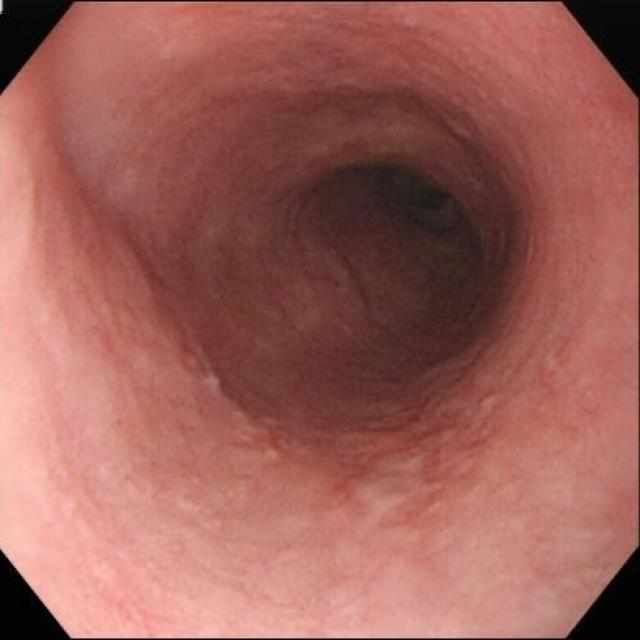E: (343, 168, 482, 303)
